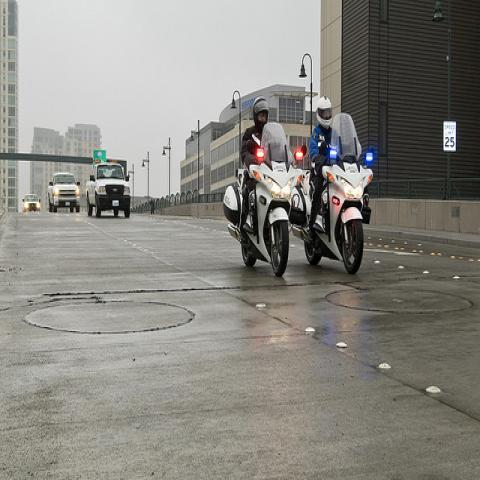car: (22, 194, 41, 212)
motorcycle: (289, 109, 376, 273), (223, 122, 308, 277)
truck: (86, 162, 130, 218), (48, 173, 81, 214)
